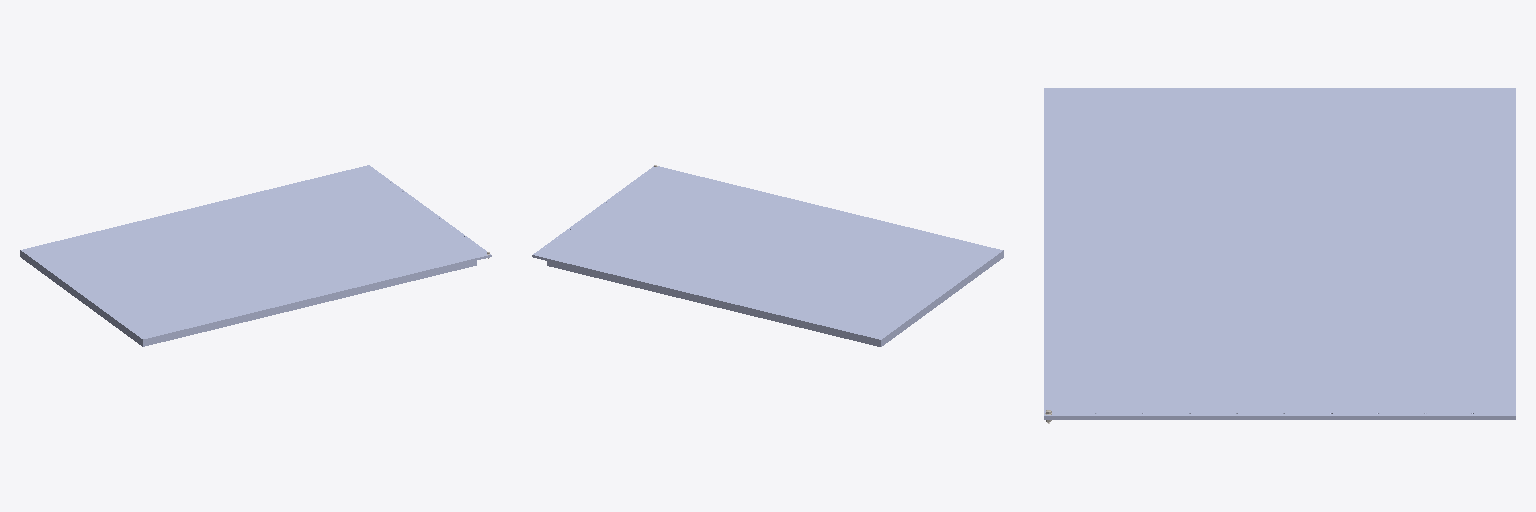
robot.urdf — battery_pack:
<?xml version="1.0" encoding="utf-8"?>
<!-- This URDF was automatically created by SolidWorks to URDF Exporter! Originally created by [author] ([email redacted]) 
     Commit Version: 1.5.1-0-g916b5db  Build Version: 1.5.7152.31018
     For more information, please see http://wiki.ros.org/sw_urdf_exporter -->
<robot  name="battery_pack">
  <link    name="battery_pack_link">
    <inertial>
      <origin        xyz="-0.69497 0.40355 -0.0048576"        rpy="0 0 0" />
      <mass        value="38.849" />
      <inertia        ixx="2.6252"        ixy="3.5672E-05"        ixz="-0.0040349"        iyy="6.7216"        iyz="-8.9999E-08"        izz="9.3409" />
    </inertial>
    <visual>
      <geometry>
        <mesh          filename="package://rokae_desk/meshes/battery_pack_link.stl" />
      </geometry>
      <origin        xyz="0 0 0"        rpy="0 0 0" />
      <material        name="">
        <color          rgba="0.79216 0.81961 0.93333 1" />
      </material>
    </visual>
    <collision>
      <origin        xyz="0 0 0"        rpy="0 0 0" />
      <geometry>
        <mesh
          filename="package://rokae_desk/meshes/battery_pack_link.stl" />
      </geometry>
    </collision>
  </link>

  <gazebo reference="battery_pack_link">
    <material>Gazebo/Orange</material>
  </gazebo>
  
  <link    name="luoshuan_Link">
    <inertial>
      <origin        xyz="-0.00727552152690839 0.047544175233636 0.015600434877913"
        rpy="0 0 0" />
      <mass        value="0.00893667958625815" />
      <inertia
        ixx="1.00378421041833E-07"
        ixy="-1.34648613478747E-13"
        ixz="7.18049496220953E-14"
        iyy="5.56080118731556E-07"
        iyz="5.3175741569067E-14"
        izz="5.5607994905101E-07" />
    </inertial>
    <visual>
      <origin        xyz="0 0 0"        rpy="0 0 0" />
      <geometry>
        <mesh          filename="package://rokae_desk/meshes/luoshuan_Link.stl" />
      </geometry>
      <material        name="">
        <color          rgba="0.776470588235294 0.756862745098039 0.737254901960784 1" />
      </material>
    </visual>
    <collision>
      <origin        xyz="0 0 0"        rpy="0 0 0" />
      <geometry>
        <mesh          filename="package://rokae_desk/meshes/luoshuan_Link.stl" />
      </geometry>
    </collision>
  </link>

  <joint    name="luoshuan"    type="continuous">
    <origin      xyz="0.016544 -0.0094533 0"      rpy="1.8719 1.5708 0" />
    <parent      link="battery_pack_link" />
    <child      link="luoshuan_Link" />
    <axis      xyz="1 0 0" />
    <limit      lower="0"      upper="0"      effort="0"      velocity="0" />
  </joint>

  <link    name="luomu_Link">
  
    <inertial>
      <origin        xyz="0.0499993014489127 -0.00197272491730389 -0.00260060062372346"   rpy="0 0 0" />
      <mass        value="0.00265736664598247" />
      <inertia
        ixx="2.79753335550581E-08"
        ixy="5.00698636970922E-14"
        ixz="1.69540696961174E-14"
        iyy="2.79767293623279E-08"
        iyz="-6.75598040574546E-14"
        izz="4.4615609147972E-08" />
    </inertial>

    <visual>
      <origin        xyz="0 0 0"        rpy="0 0 0" />
      <geometry>
        <mesh          filename="package://rokae_desk/meshes/luomu_Link.stl" />
      </geometry>
      <material        name="">
        <color          rgba="0.776470588235294 0.756862745098039 0.737254901960784 1" />
      </material>
    </visual>

    <collision>
      <origin   xyz="0 0 0"   rpy="0 0 0" />
      <geometry>
        <mesh          filename="package://rokae_desk/meshes/luomu_Link.stl" />
      </geometry>
    </collision>
  </link>

  <joint    name="luomu"    type="fixed">
    <origin      xyz="0.016544 -0.0094533 0"      rpy="0 0 -0.57871" />
    <parent      link="battery_pack_link" />
    <child      link="luomu_Link" />
    <axis      xyz="0 0 0" />
  </joint>

</robot>

--- Render facts (derived) ---
The picture shows the robot from 3 angles, left to right: view 1: azimuth 30°, elevation 25°; view 2: azimuth 150°, elevation 25°; view 3: azimuth 270°, elevation 25°; orthographic projection.
Robot: battery_pack — 3 links, 2 joints (1 continuous, 1 fixed); root link battery_pack_link; default pose: every joint at zero.
Links seen in each view (by area): view 1: battery_pack_link; view 2: battery_pack_link; view 3: battery_pack_link.
Link boxes in pixels (x1=…): battery_pack_link: x1=20, y1=165, x2=491, y2=346; battery_pack_link: x1=532, y1=166, x2=1003, y2=346; battery_pack_link: x1=1044, y1=88, x2=1515, y2=419.
Bounding box of the posed robot: 1.48 × 0.9 × 0.0366 m (x, y, z).
3 mesh visuals loaded from 3 distinct referenced files (3 binary STL).
